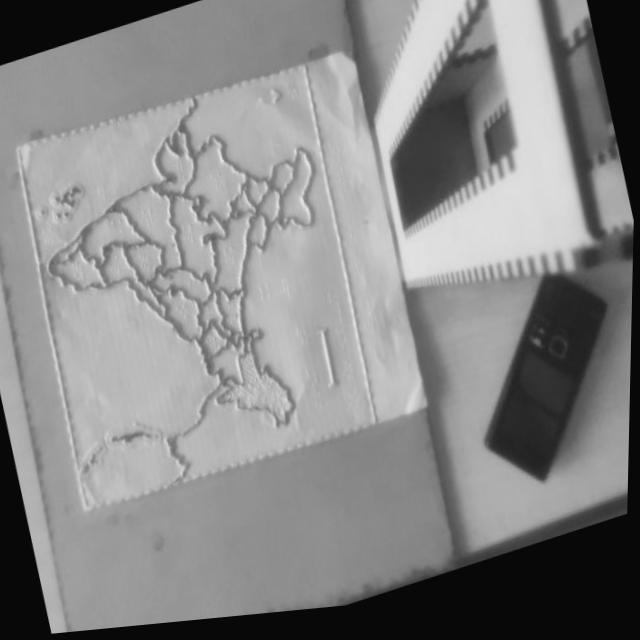map: (9, 64, 381, 510)
